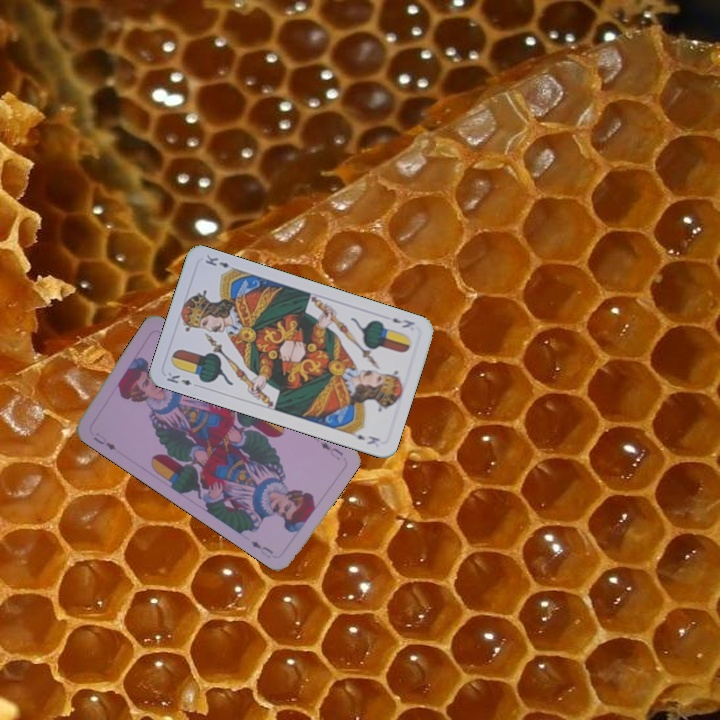EK: (162, 368, 194, 388), (388, 314, 417, 331)
EU: (316, 438, 346, 463), (89, 431, 119, 453)
